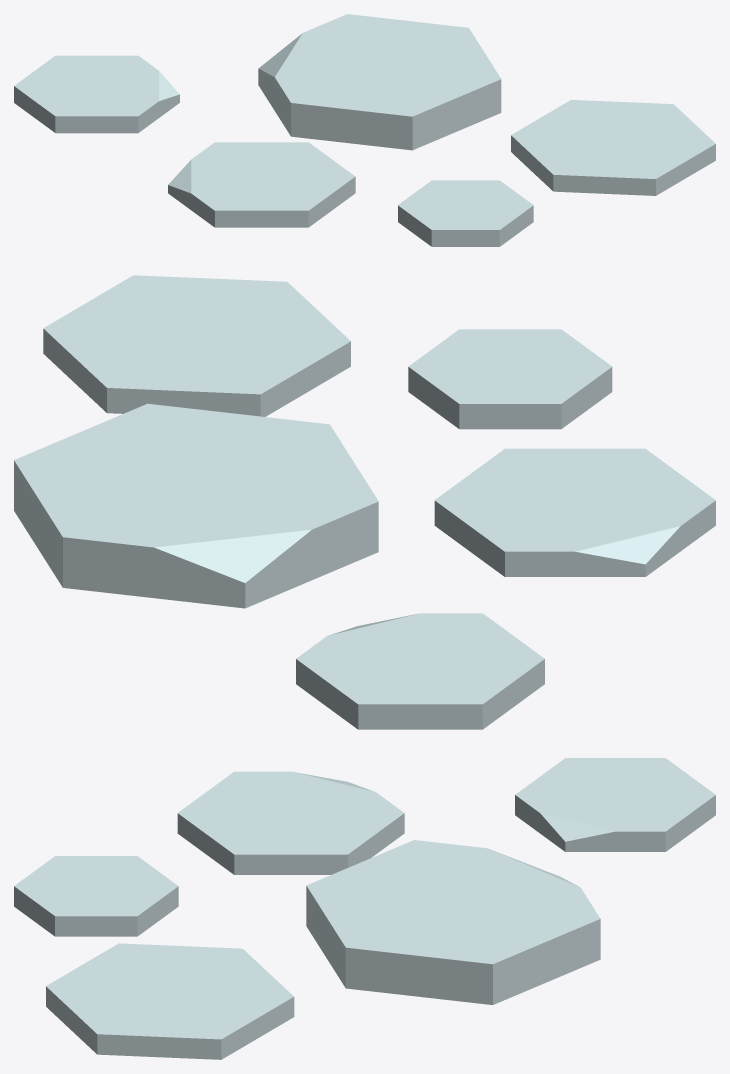
Rendered from path_stoneCorner.glb.
3 renders of one model, top to bottom at view 1: azimuth 30°, elevation 25°; view 2: azimuth 150°, elevation 25°; view 3: azimuth 270°, elevation 25°, orthographic. The views are drawn at different scales.
Parts seen in each view (by area): view 1: path_stoneCorner; view 2: path_stoneCorner; view 3: path_stoneCorner.
Boxes of the visible parts, <box> form: path_stoneCorner: <box>14,14,715,246</box>; path_stoneCorner: <box>14,275,715,729</box>; path_stoneCorner: <box>14,758,715,1059</box>.
Bounding box in the file's own units: 0.7383 × 0.05 × 0.7784.
1 material, 1 textured.
